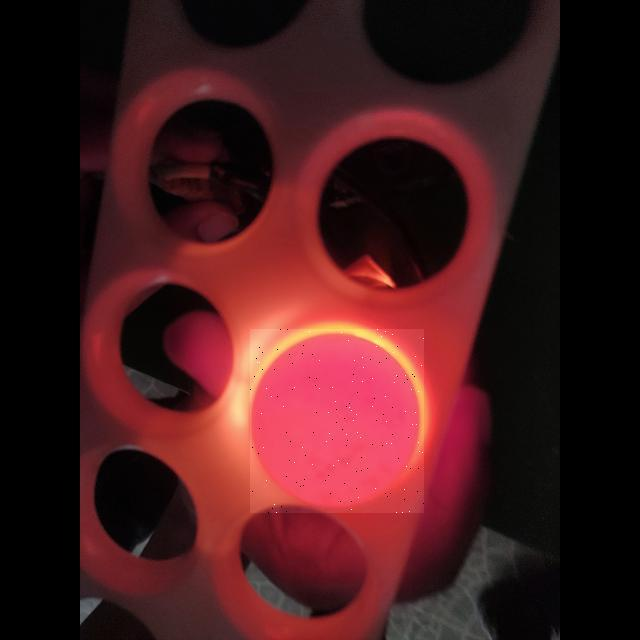Infertile: (250, 329, 424, 513)
